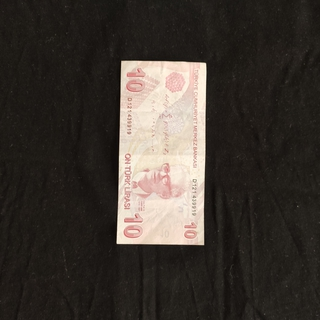10TLBack: (115, 59, 208, 247)
